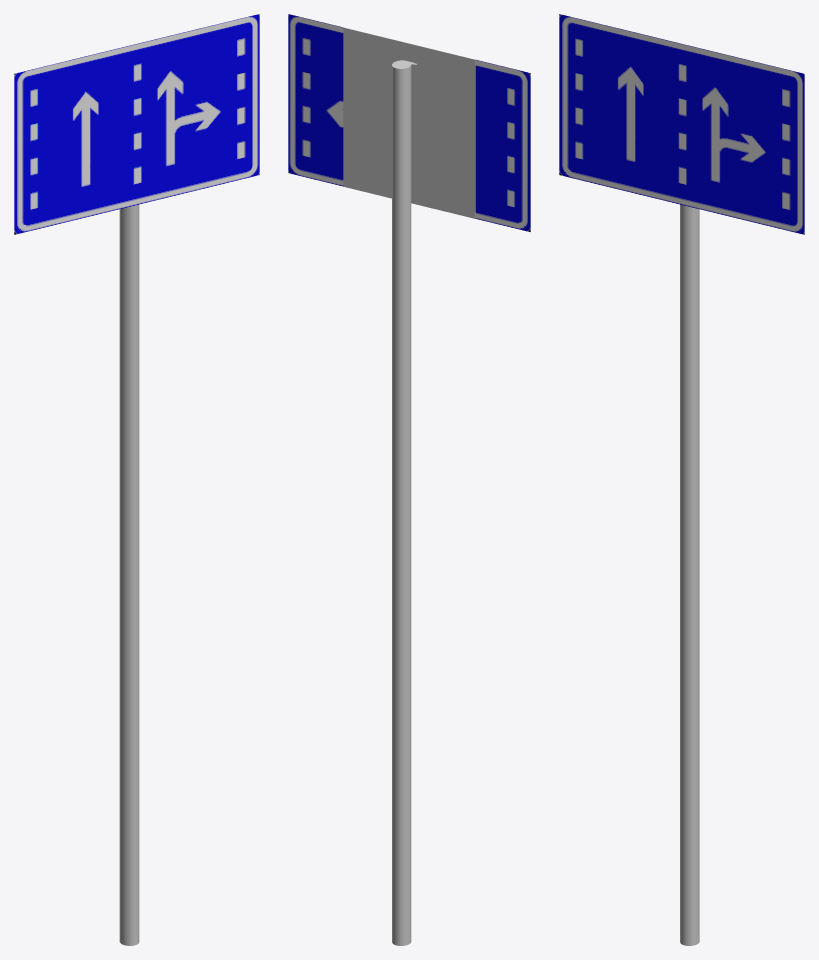
3 renders of one model, left to right at view 1: azimuth 30°, elevation 25°; view 2: azimuth 150°, elevation 25°; view 3: azimuth 330°, elevation 25°, orthographic.
Parts seen in each view (by area): view 1: SM_zhishipai_05; view 2: SM_zhishipai_05; view 3: SM_zhishipai_05.
Part boxes in pixels (<box>): SM_zhishipai_05: <box>14,14,259,945</box>; SM_zhishipai_05: <box>288,14,530,945</box>; SM_zhishipai_05: <box>559,14,804,945</box>.
Bounding box in the file's own units: 4.69 × 16.52 × 0.4286.
Materials: 2 (1 with a texture image).
